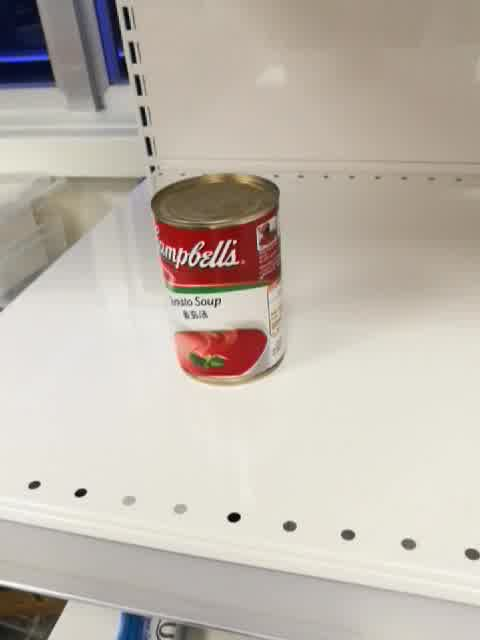tomatosoup: (149, 171, 288, 387)
